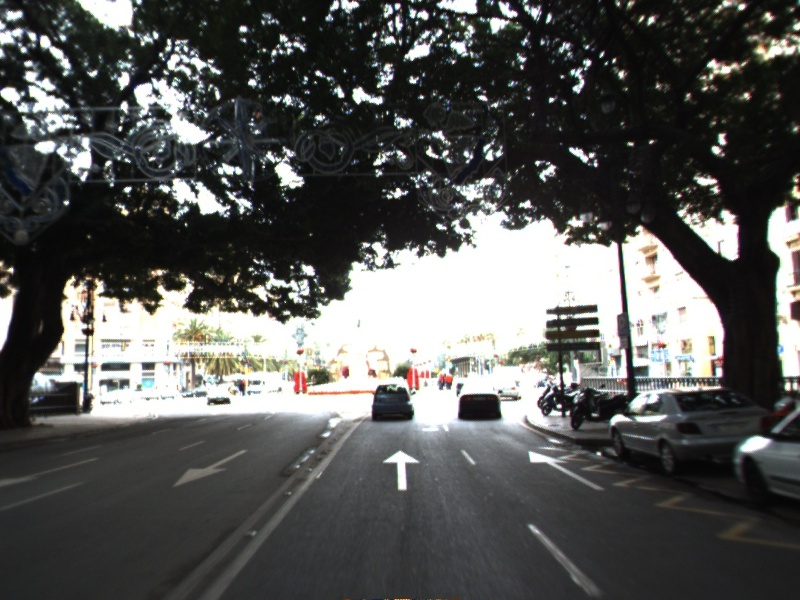STRAIGHT: (526, 449, 608, 493), (381, 448, 422, 493)
